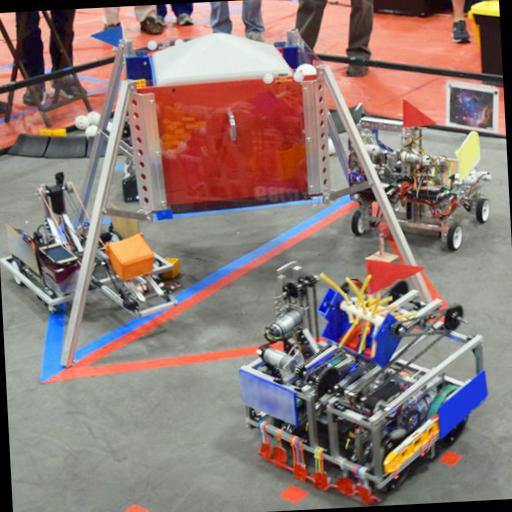robot: (234, 248, 499, 502), (0, 165, 183, 329), (348, 105, 496, 255)
